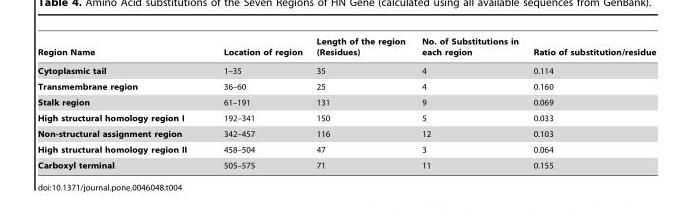table: (37, 36, 655, 169)
table column: (37, 36, 204, 169), (525, 36, 655, 169), (413, 36, 525, 169), (308, 36, 413, 169), (204, 36, 308, 169)
table column header: (37, 36, 655, 61)
table row: (37, 36, 655, 61), (37, 61, 655, 78), (37, 78, 655, 94), (37, 94, 655, 110), (37, 125, 655, 141), (37, 141, 655, 157), (37, 110, 655, 125), (37, 157, 655, 169)
